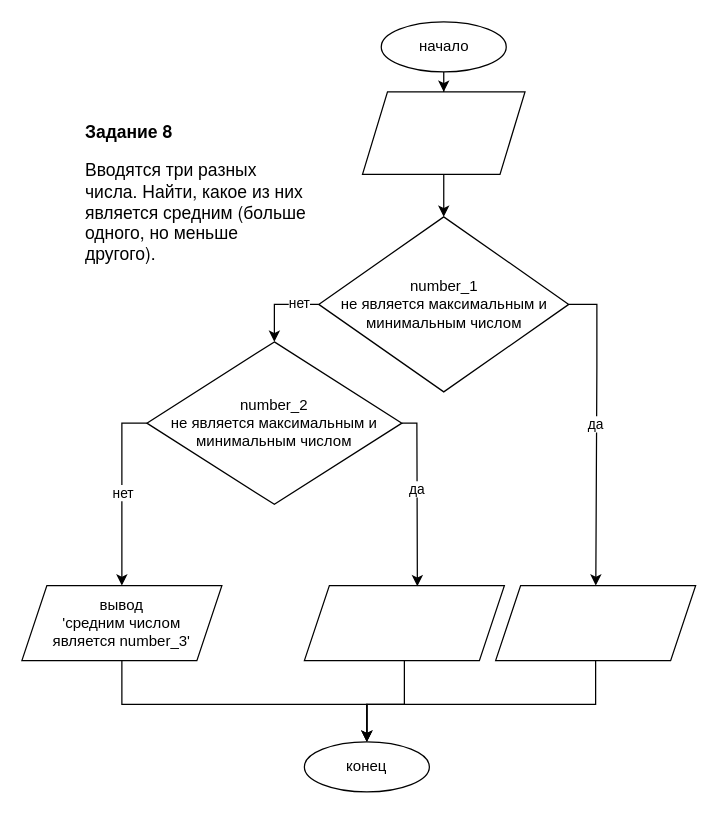
Some shapes in this 718 by 814 pixel diagram are drawn without their labels. The centre of each missing label's shape, as x and y in pixels:
ввод: number_1, number_2, number_3: the point at 443,132
вывод 'средним числом является number_1': the point at 595,622
вывод 'средним числом является number_2': the point at 403,622
